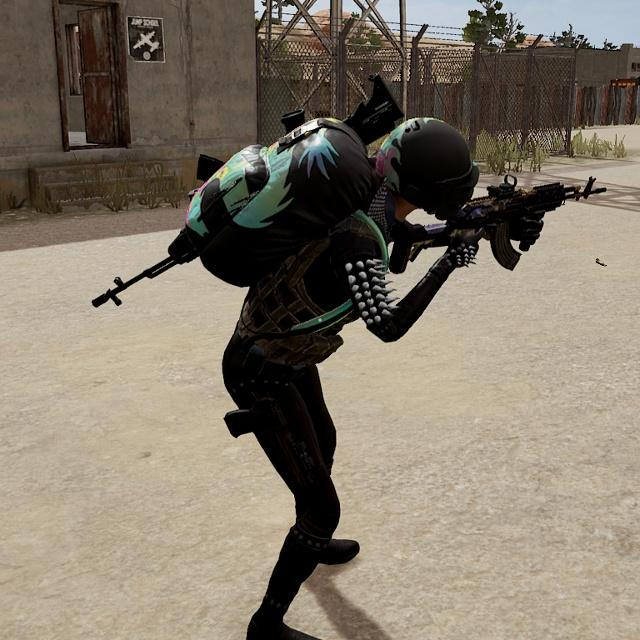head: (372, 111, 481, 231)
people: (181, 105, 498, 640)
